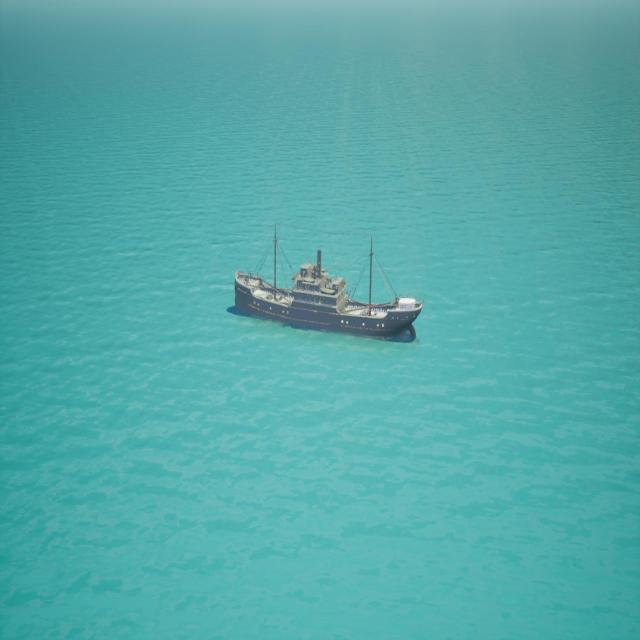fishing ship: (232, 229, 423, 342)
